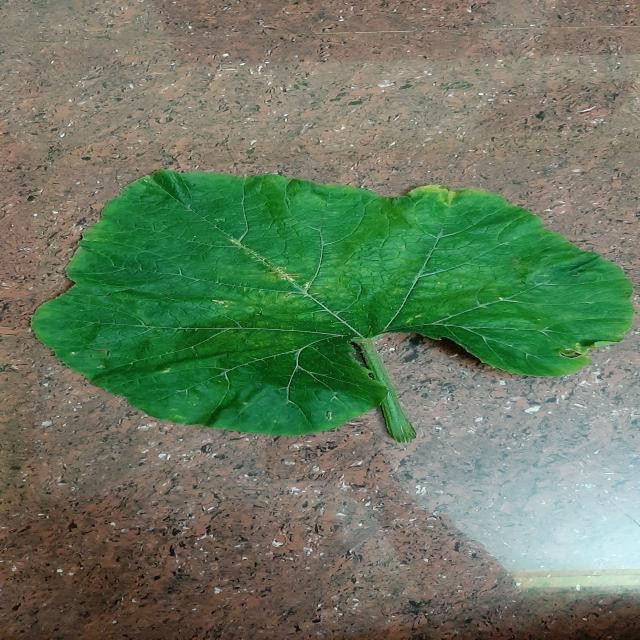pumpkin: (33, 170, 634, 442)
